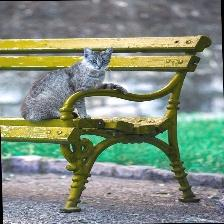kedo: (24, 48, 112, 123)
